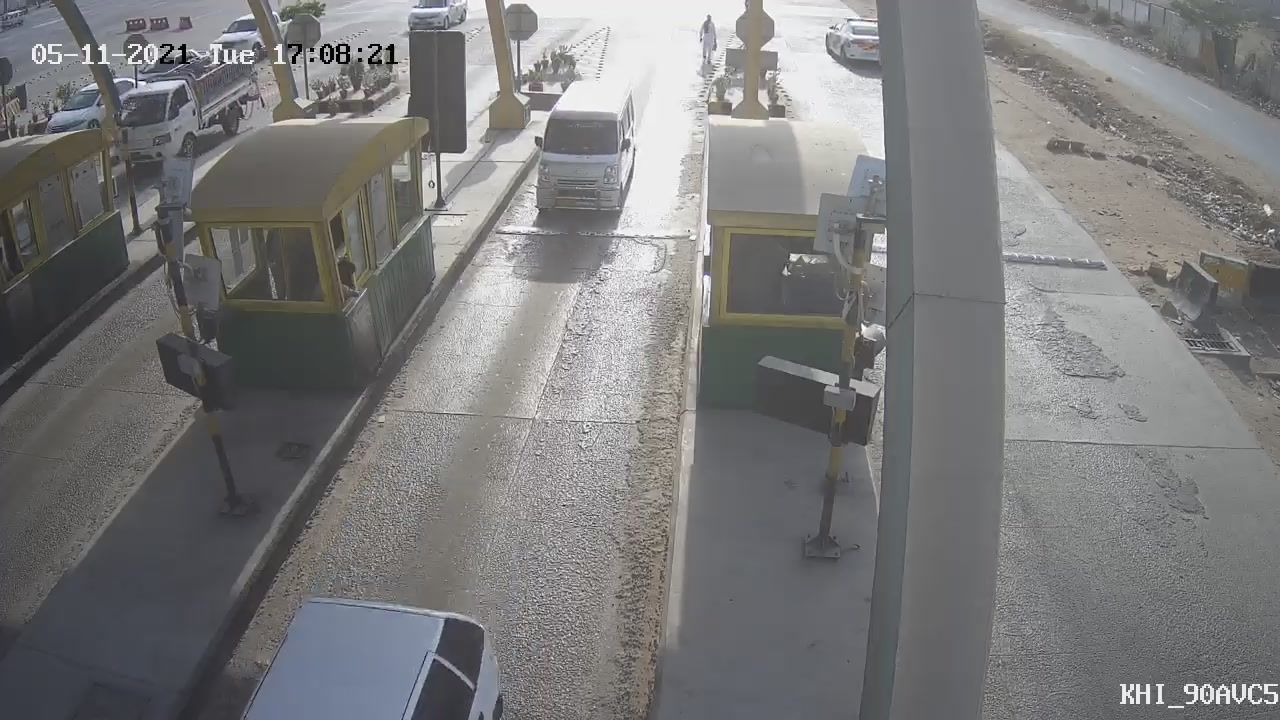F1: (514, 69, 652, 227)
